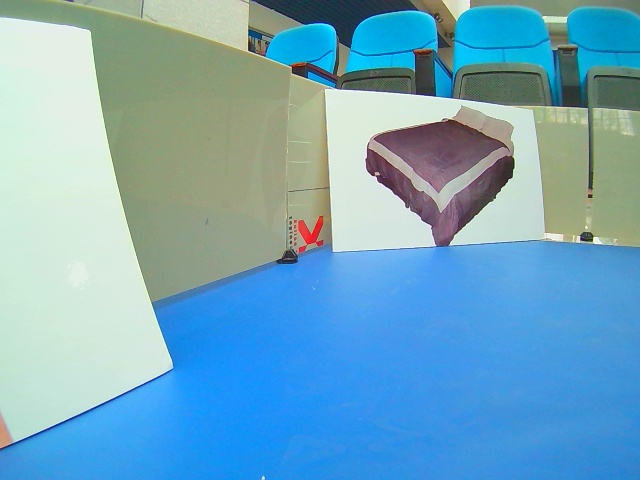bed: (326, 89, 548, 253)
